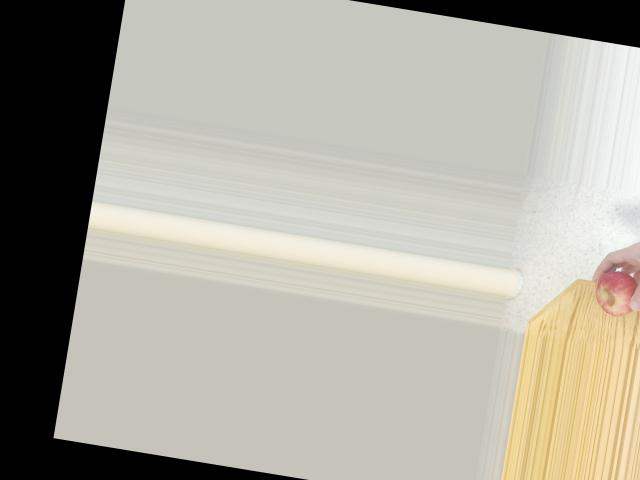apple: (591, 267, 640, 321)
